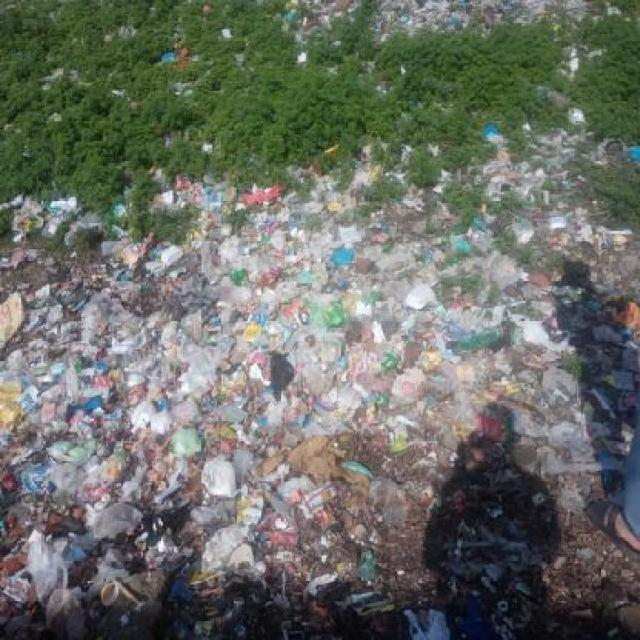garbage: (0, 199, 639, 640), (291, 162, 491, 202), (486, 131, 590, 198), (374, 2, 535, 33), (173, 175, 249, 208), (289, 0, 373, 25)
